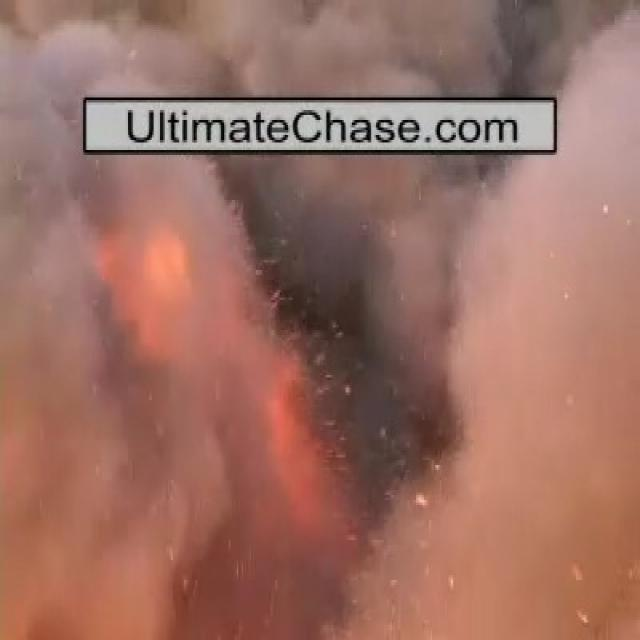smoke: (25, 157, 584, 525), (29, 1, 586, 93)
